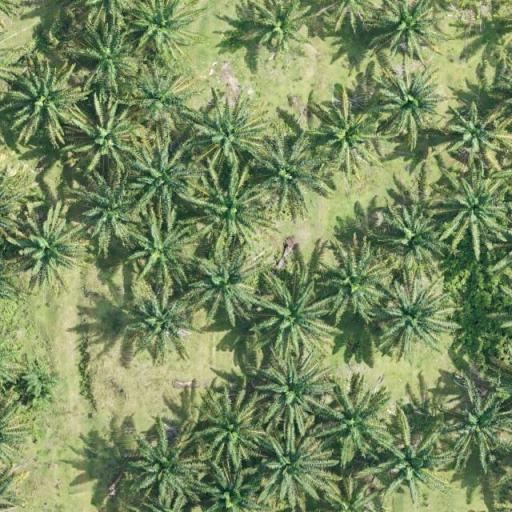Ganoderma: (450, 110, 492, 153)
